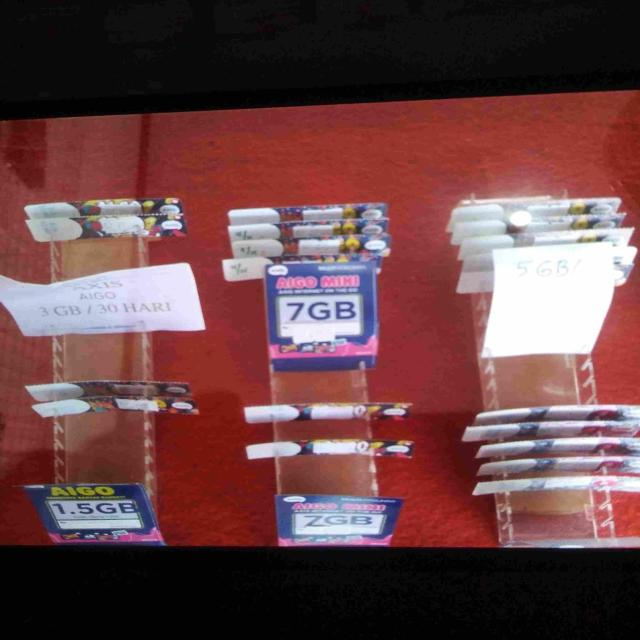Axis: (227, 201, 397, 364), (468, 406, 640, 495), (22, 197, 190, 240), (28, 378, 200, 418), (246, 435, 417, 464), (241, 402, 414, 424)
